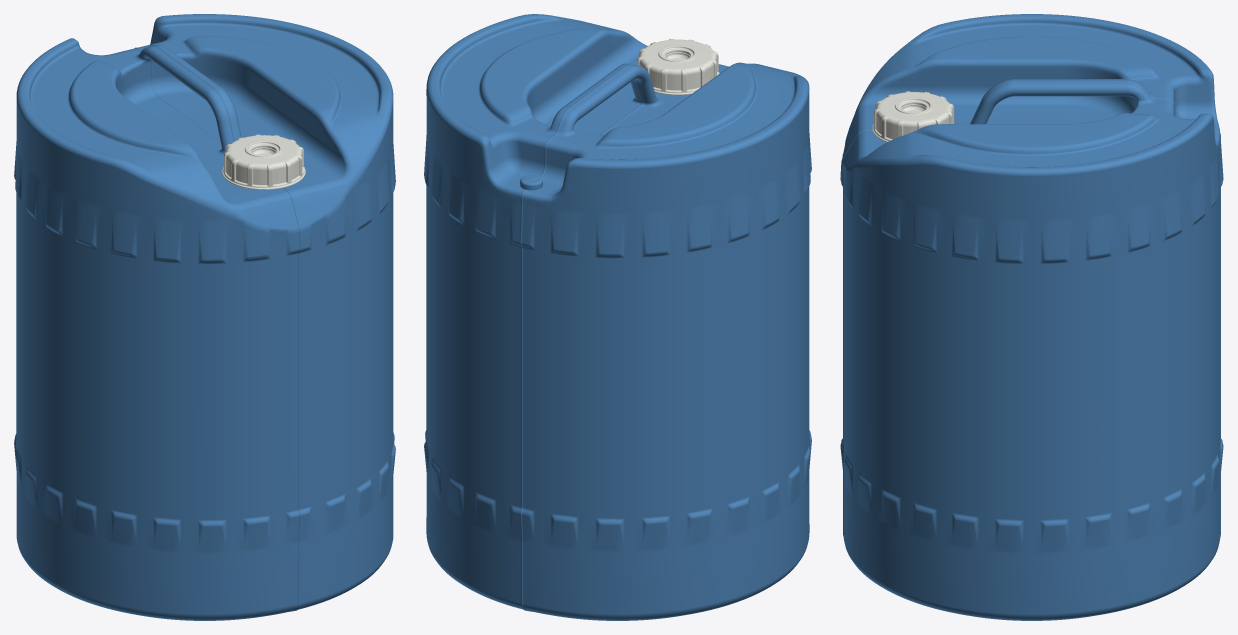
File: drum_plastic_blue_a01.glb
3 views of the same model, side by side, from view 1: azimuth 30°, elevation 25°; view 2: azimuth 150°, elevation 25°; view 3: azimuth 270°, elevation 25° (orthographic).
Bounding box in the file's own units: 0.2827 × 0.3866 × 0.2842.
